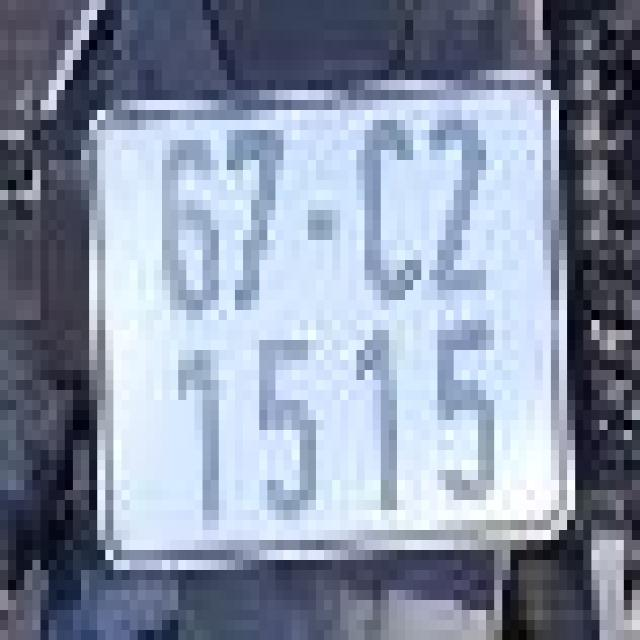1: (154, 320, 235, 530), (348, 310, 414, 520)
2: (421, 100, 494, 300)
5: (247, 320, 336, 520), (430, 310, 502, 500)
6: (154, 120, 227, 320)
7: (223, 130, 304, 320)
C: (348, 105, 429, 305)
